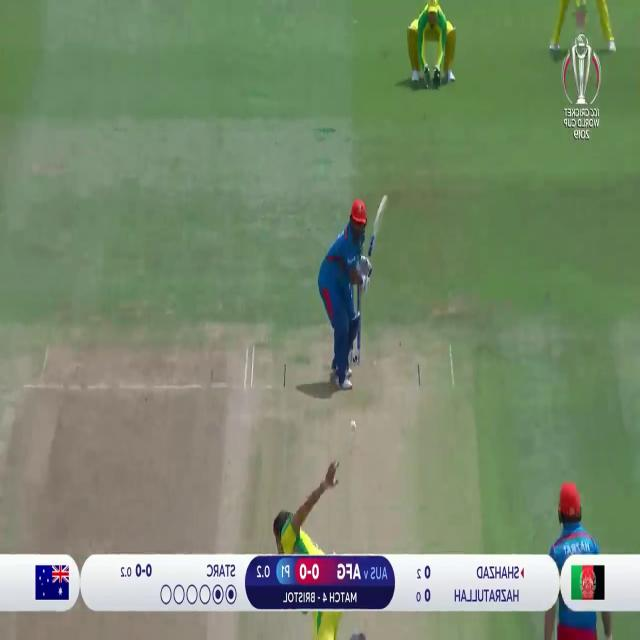ball: (350, 417, 357, 430)
